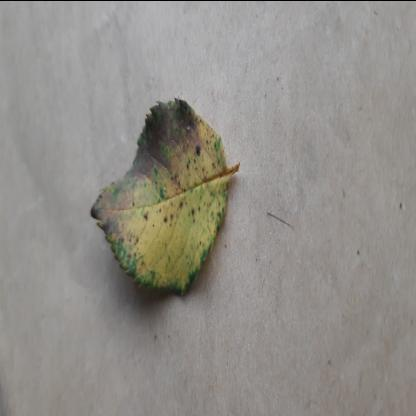black-spot: (83, 96, 232, 306)
